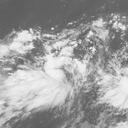cyclone: (16, 54, 80, 109)
